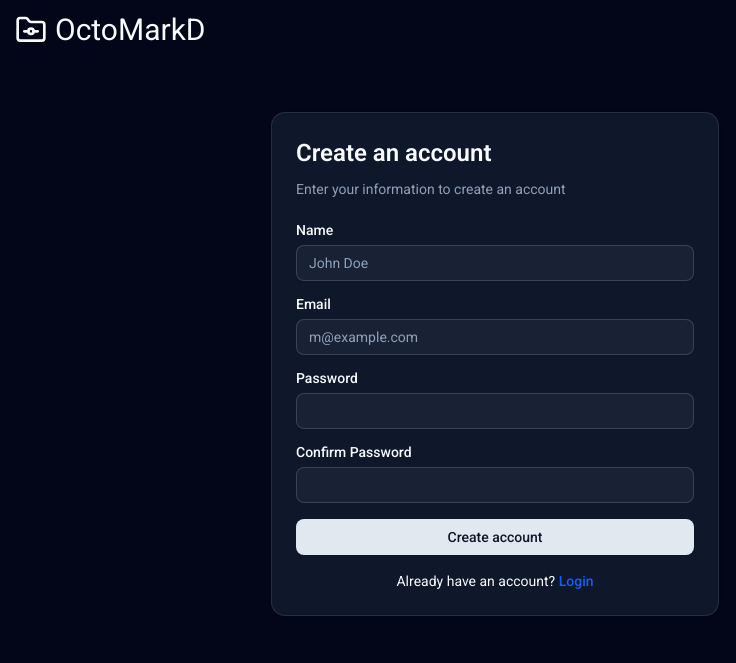
Test: Signup Page › shows error if passwords do not match
Type "Test User" into the field labelled "Name" at (495, 263), box [296, 245, 694, 281]
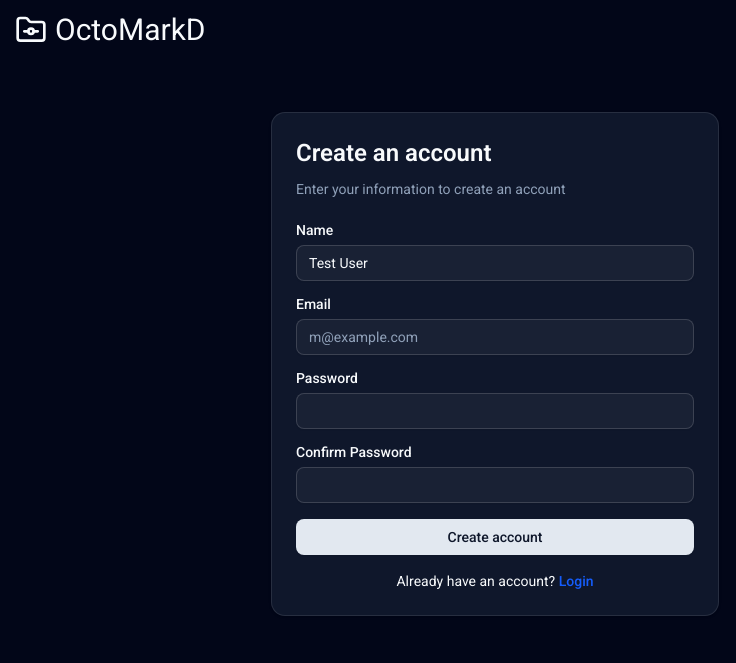
Type "test@example.com" into the field labelled "Email" at (495, 337), box [296, 319, 694, 355]
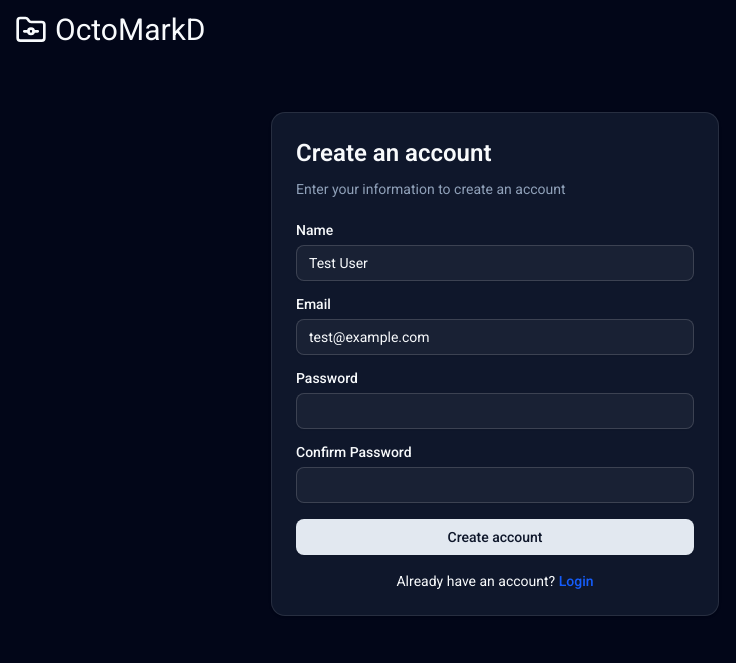
Type "password123" into the password field labelled "Password" at (495, 411), box [296, 393, 694, 429]
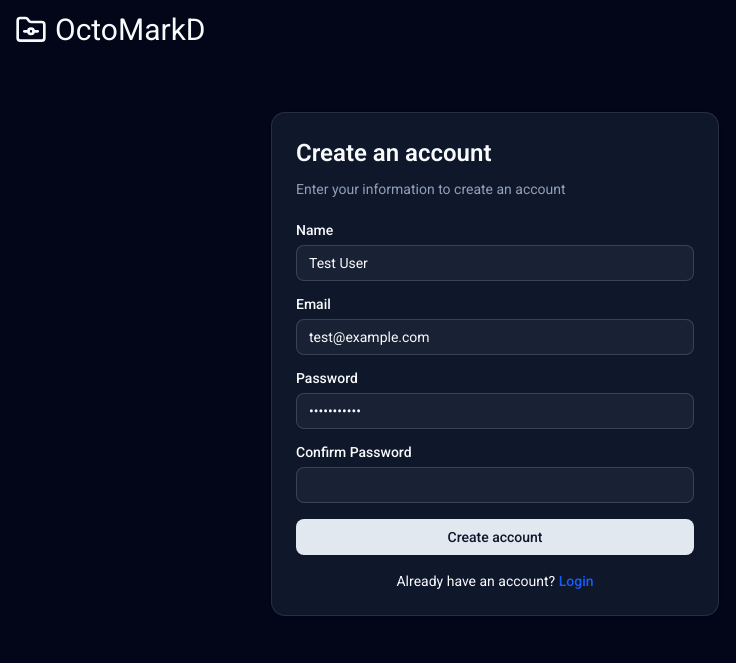
Type "password456" into the password field labelled "Confirm Password" at (495, 485), box [296, 467, 694, 503]
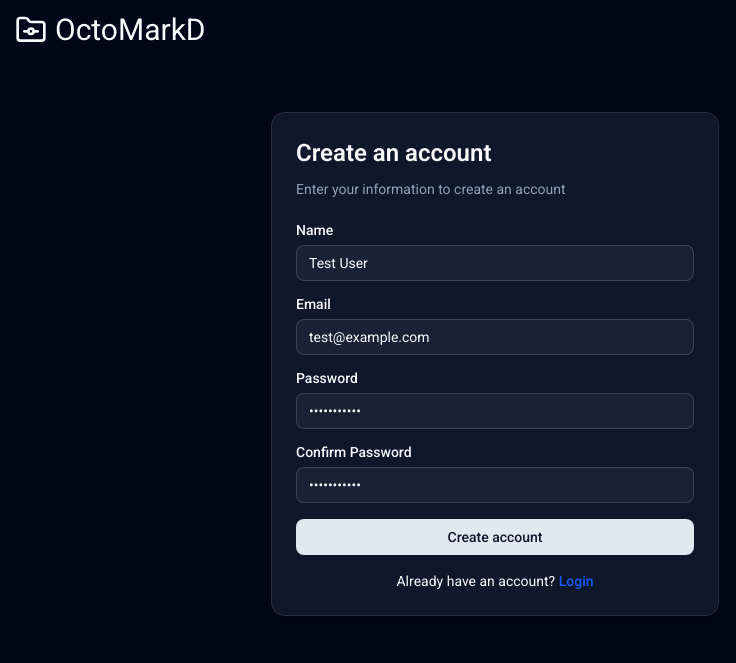
Click the button "Create account" at (495, 537), box [296, 519, 694, 555]
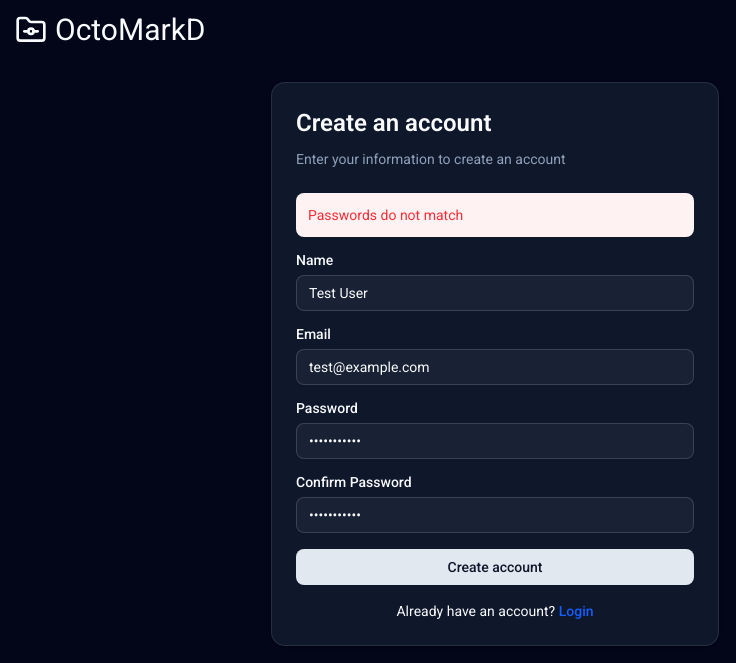
Check: the text "Passwords do not match" is shown, box [296, 193, 694, 237]
